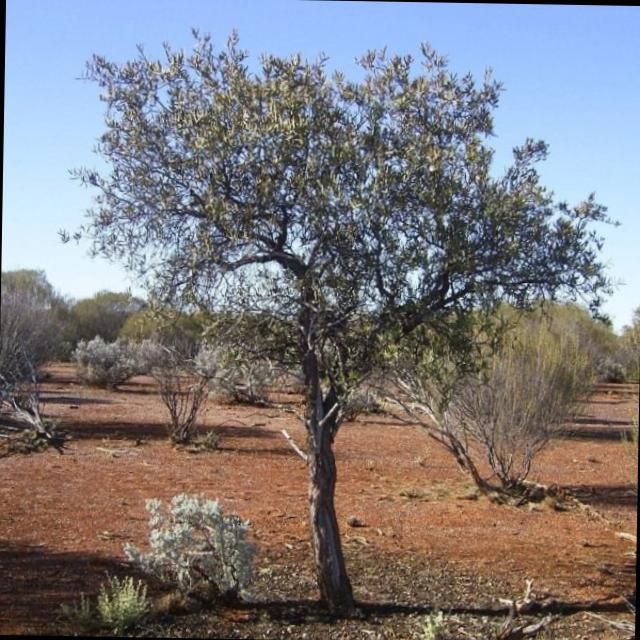Medicinal-Sandalwood: (65, 10, 610, 612)
